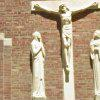Statue: (33, 1, 89, 74)
